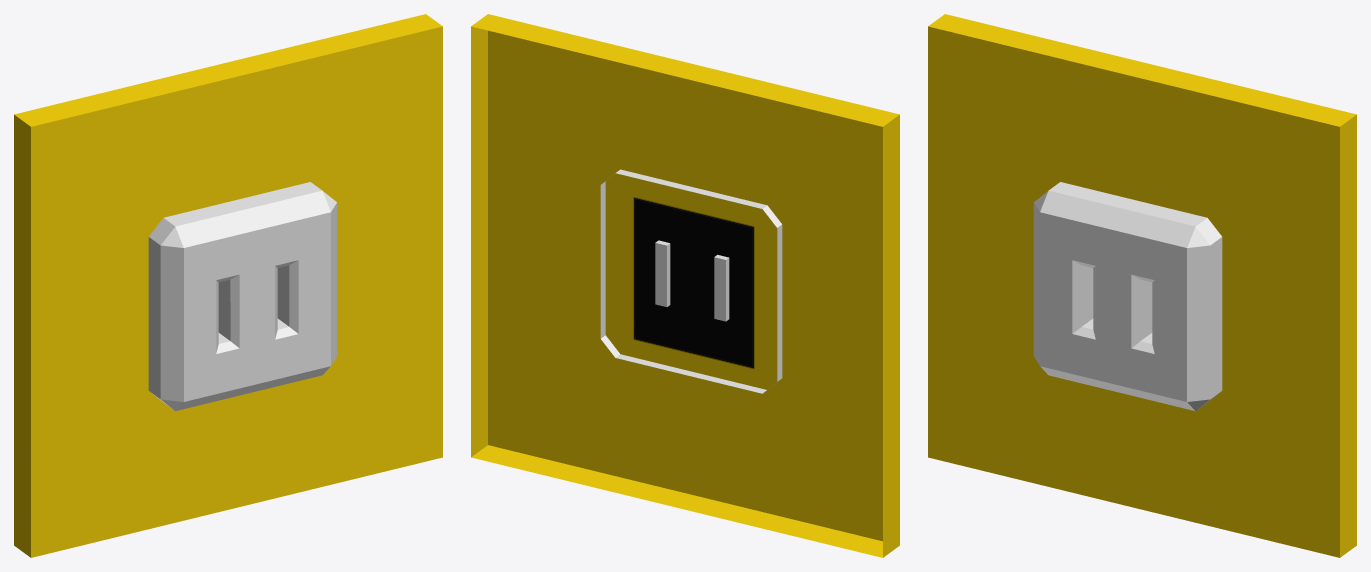
Rendered from Consent.fbx.
3 renders of one model, left to right at view 1: azimuth 30°, elevation 25°; view 2: azimuth 150°, elevation 25°; view 3: azimuth 330°, elevation 25°, orthographic.
Parts seen in each view (by area): view 1: polySurface2; view 2: polySurface2; view 3: polySurface2.
Boxes of the visible parts, x1,y1,x2,y2 form: polySurface2: (14,14,442,557); polySurface2: (471,14,899,557); polySurface2: (928,14,1356,557).
Bounding box in the file's own units: 7 × 7 × 1.1.
